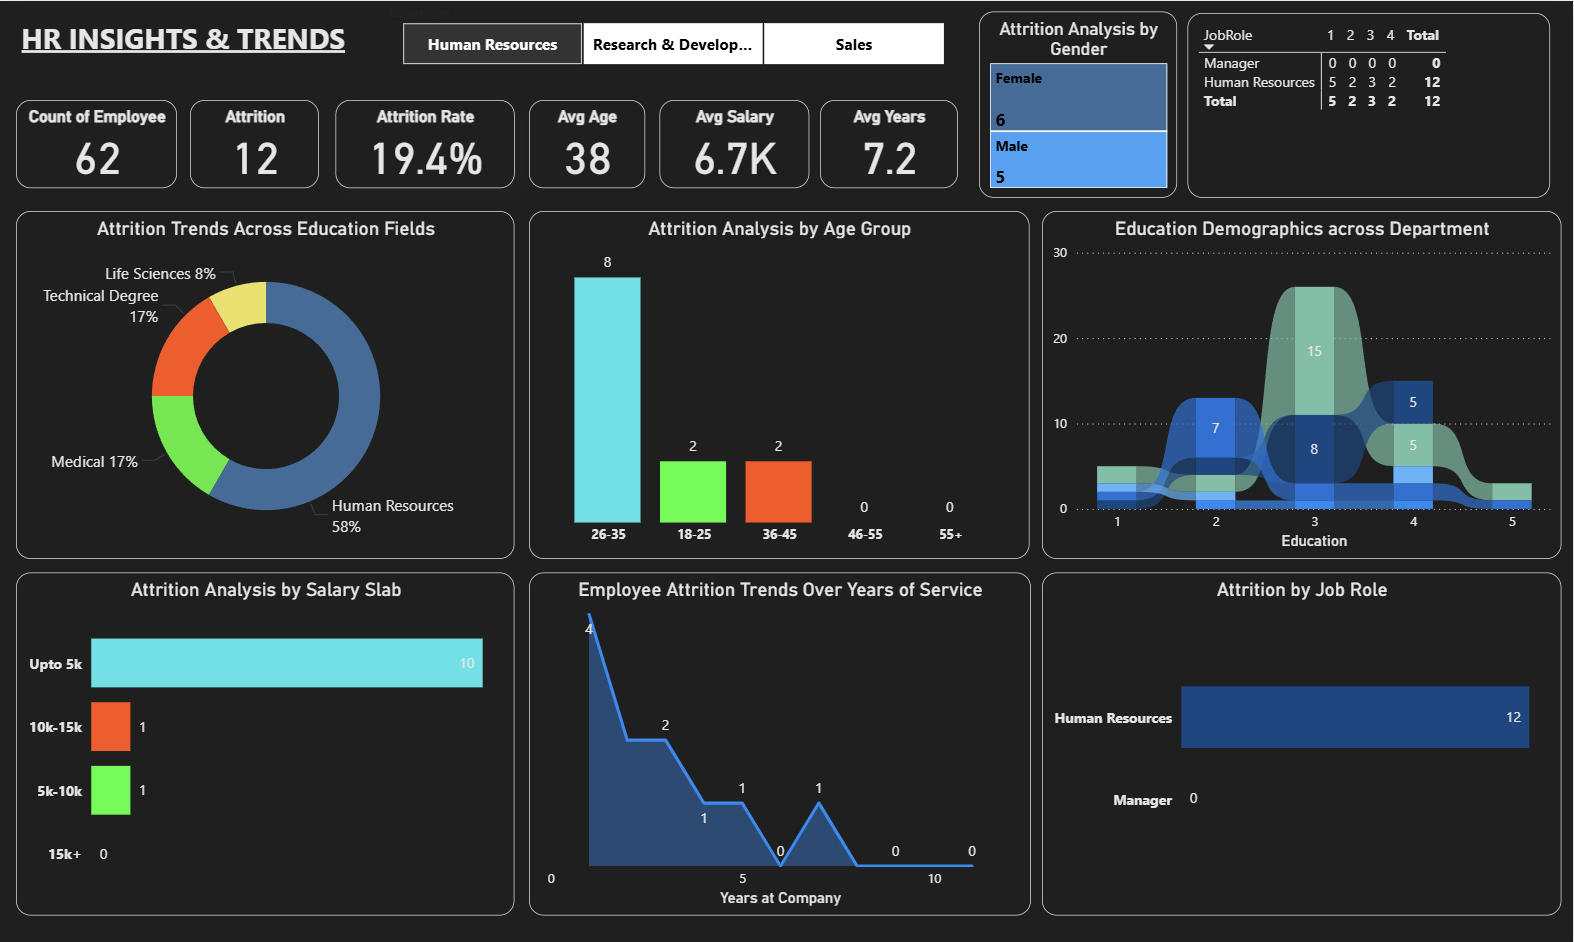

The page's visual inventory and layout, read from the dashboard file:
{"tool":"powerbi","page":{"name":"Page 1","canvas":[1500,900],"ordinal":0},"visuals":[{"type":"card","title":"Count of Employee","fields":{"Values":["Min(HR_Analytics.EmpID)"]},"box":[16.8,93.6,153.7,83.8],"z":0},{"type":"card","title":"Attrition","fields":{"Values":["Sum(HR_Analytics.AttritionCount)"]},"box":[183,93.6,122.9,83.8],"z":1000},{"type":"card","title":"Attrition Rate","fields":{"Values":["HR_Analytics.AttritionRate"]},"box":[321.3,93.6,170.4,83.8],"z":2000},{"type":"card","title":"Avg Age","fields":{"Values":["Sum(HR_Analytics.Age)"]},"box":[505.7,93.6,110.4,83.8],"z":3000},{"type":"card","title":"Avg Salary","fields":{"Values":["Sum(HR_Analytics.MonthlyIncome)"]},"box":[630,93.6,142.5,83.8],"z":4000},{"type":"card","title":"Avg Years","fields":{"Values":["Sum(HR_Analytics.YearsAtCompany)"]},"box":[782.3,93.6,131.3,83.8],"z":5000},{"type":"pieChart","title":"Attrition Trends Across Education Fields","fields":{"Category":["HR_Analytics.EducationField"],"Y":["Sum(HR_Analytics.AttritionCount)"]},"box":[16.8,199.8,474.9,331.1],"z":6000},{"type":"columnChart","title":"Attrition Analysis by Age Group","fields":{"Category":["HR_Analytics.AgeGroup"],"Y":["Sum(HR_Analytics.AttritionCount)"]},"box":[505.7,199.8,476.3,331.1],"z":7000},{"type":"pivotTable","fields":{"Rows":["HR_Analytics.JobRole"],"Columns":["HR_Analytics.JobSatisfaction"],"Values":["Sum(HR_Analytics.AttritionCount)"]},"box":[1132.9,11.2,345,176],"z":8000},{"type":"barChart","title":"Attrition Analysis by Salary Slab","fields":{"Category":["HR_Analytics.SalarySlab"],"Y":["Sum(HR_Analytics.AttritionCount)"]},"box":[16.8,544.8,474.9,326.9],"z":9000},{"type":"barChart","title":"Attrition by Job Role","fields":{"Category":["HR_Analytics.JobRole"],"Y":["Sum(HR_Analytics.AttritionCount)"]},"box":[994.6,544.8,494.5,326.9],"z":10000},{"type":"areaChart","title":"Employee Attrition Trends Over Years of Service","fields":{"Category":["HR_Analytics.YearsAtCompany"],"Y":["Sum(HR_Analytics.AttritionCount)"]},"box":[505.7,544.8,477.7,326.9],"z":11000},{"type":"treemap","title":"Attrition Analysis by Gender","fields":{"Group":["HR_Analytics.Gender"],"Values":["Sum(HR_Analytics.AttritionCount)"]},"box":[934.5,9.8,188.6,177.4],"z":12000},{"type":"slicer","fields":{"Values":["HR_Analytics.Department"]},"box":[360.4,0,564.4,67.1],"z":13000},{"type":"textbox","box":[16.6,11.8,334,55.7],"z":14000},{"type":"ribbonChart","title":"Education Demographics across Department ","fields":{"Y":["CountNonNull(HR_Analytics.Department)"],"Category":["HR_Analytics.Education"],"Series":["HR_Analytics.EducationField"]},"box":[994.6,199.8,494.5,331.1],"z":15000}]}

Visuals, with their boxes in screenshot pixels (x1, y1, x2, y2), scaled from the page's 1500x900 canvas onto the 1574x942 screenshot:
"Count of Employee" card: 18 98 179 186
"Attrition" card: 192 98 321 186
"Attrition Rate" card: 337 98 516 186
"Avg Age" card: 531 98 646 186
"Avg Salary" card: 661 98 811 186
"Avg Years" card: 821 98 959 186
"Attrition Trends Across Education Fields" pieChart: 18 209 516 556
"Attrition Analysis by Age Group" columnChart: 531 209 1030 556
pivotTable - HR_Analytics.JobRole x HR_Analytics.JobSatisfaction: 1189 12 1551 196
"Attrition Analysis by Salary Slab" barChart: 18 570 516 912
"Attrition by Job Role" barChart: 1044 570 1563 912
"Employee Attrition Trends Over Years of Service" areaChart: 531 570 1032 912
"Attrition Analysis by Gender" treemap: 981 10 1179 196
slicer - HR_Analytics.Department: 378 0 970 70
textbox: 17 12 368 71
"Education Demographics across Department " ribbonChart: 1044 209 1563 556
